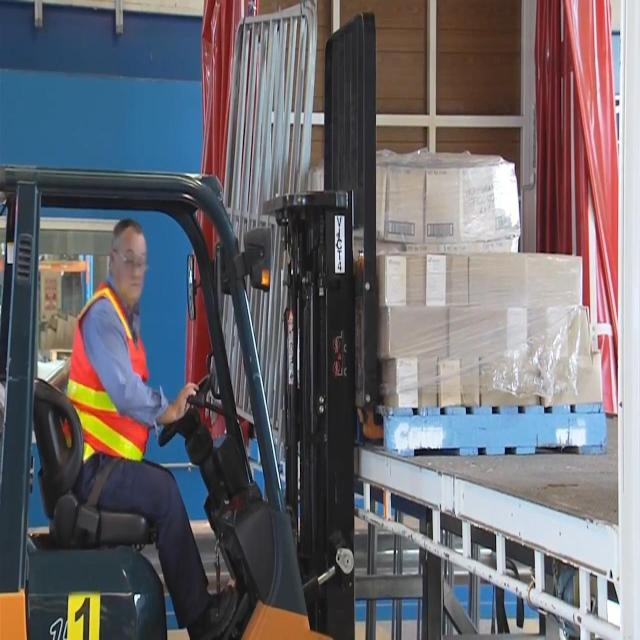box: (370, 148, 612, 420)
forklift: (0, 0, 411, 640)
pallets: (348, 387, 622, 470)
person: (44, 163, 255, 640)
